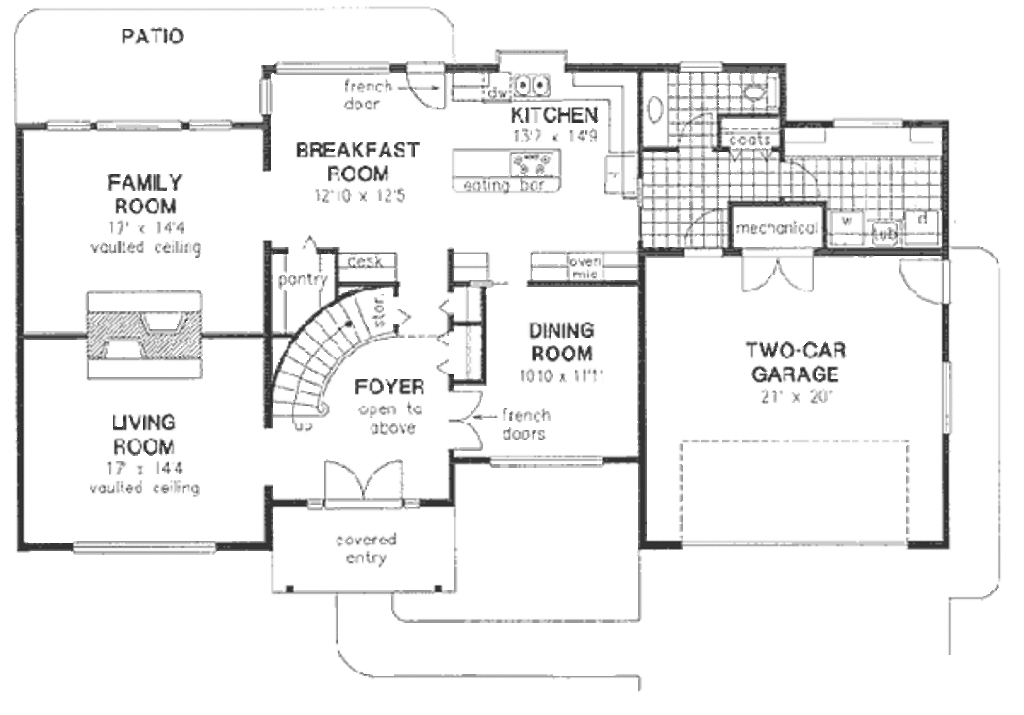door: (320, 456, 408, 509), (737, 242, 820, 295), (895, 248, 958, 312), (401, 55, 455, 115), (445, 389, 496, 452), (681, 200, 725, 256), (678, 106, 725, 154)
kitchen_bar: (445, 137, 570, 197)
large_sink: (740, 72, 778, 106)
small_sink: (641, 66, 670, 148)
stairs: (267, 289, 402, 425)
twin_sink: (511, 72, 557, 100)
window: (46, 111, 234, 137), (70, 540, 223, 555), (494, 455, 603, 471), (833, 111, 903, 134), (937, 353, 953, 445), (678, 56, 723, 76)
